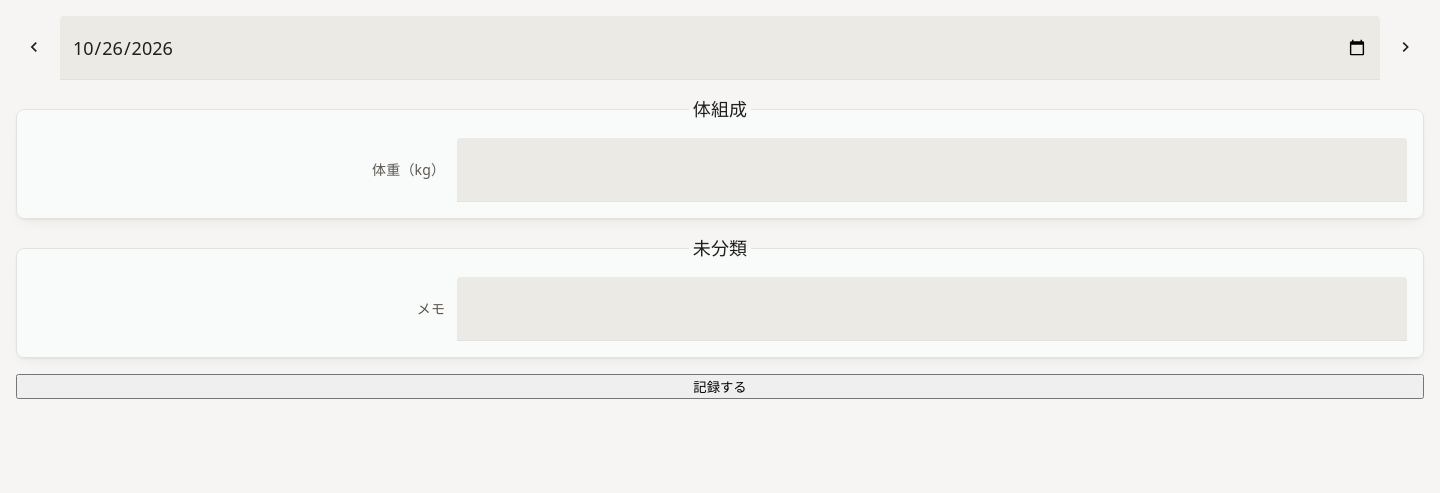
Test: EntryFormScreen › submits values grouped by metric group and skips blank inputs
Check: the number field named "体重" is shown, box [457, 138, 1407, 201]
Type "2026-07-20" into the date field named "記録日".
click(720, 48); type("2026-07-20")  # box [60, 16, 1380, 80]
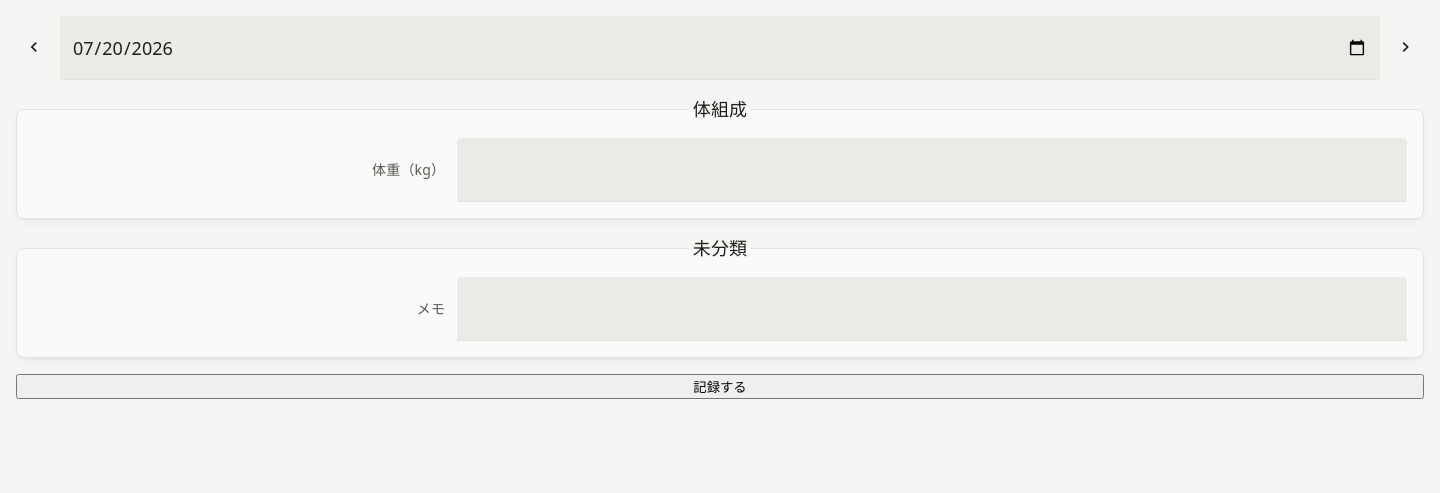
Note: 選択した日付の既存記録を読み込み終わるまで入力欄は disabled になるため待機する
Type "70.5" into the number field named "体重".
click(932, 170); type("70.5")  # box [457, 138, 1407, 201]
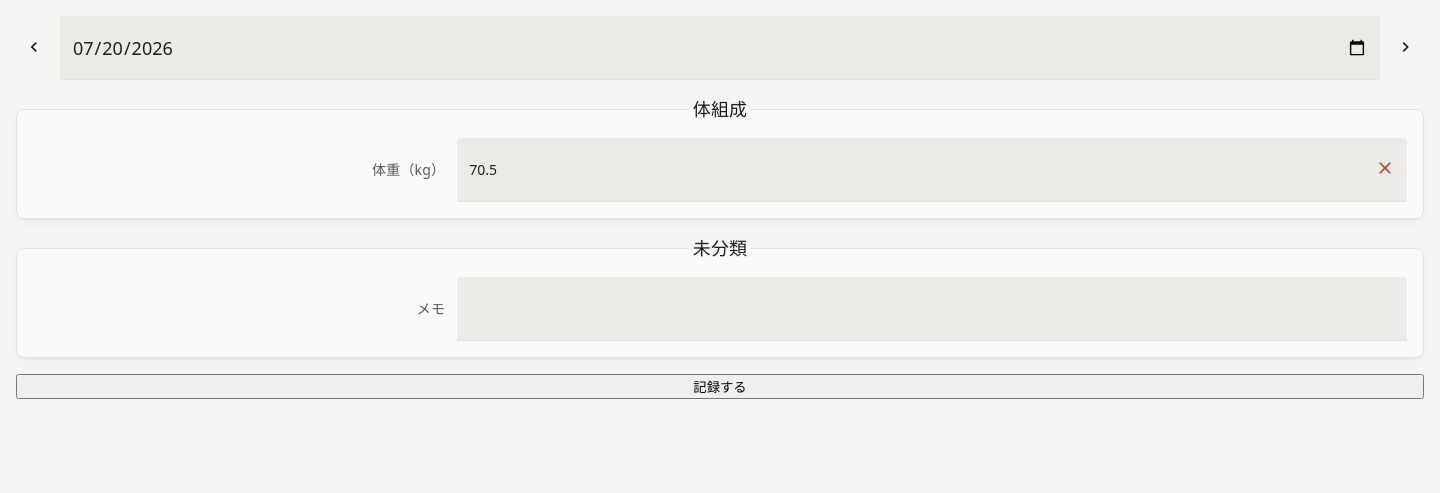
Click the button "記録する".
click(720, 387)  # box [16, 374, 1424, 399]
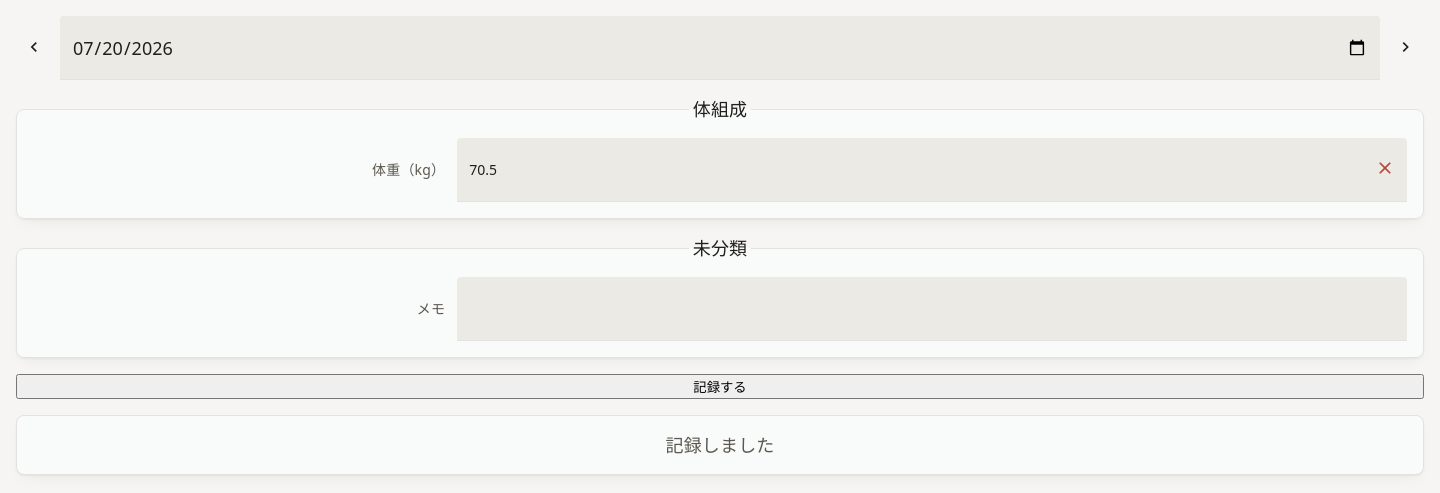
Check: the text "記録しました" is shown, box [16, 415, 1424, 475]
